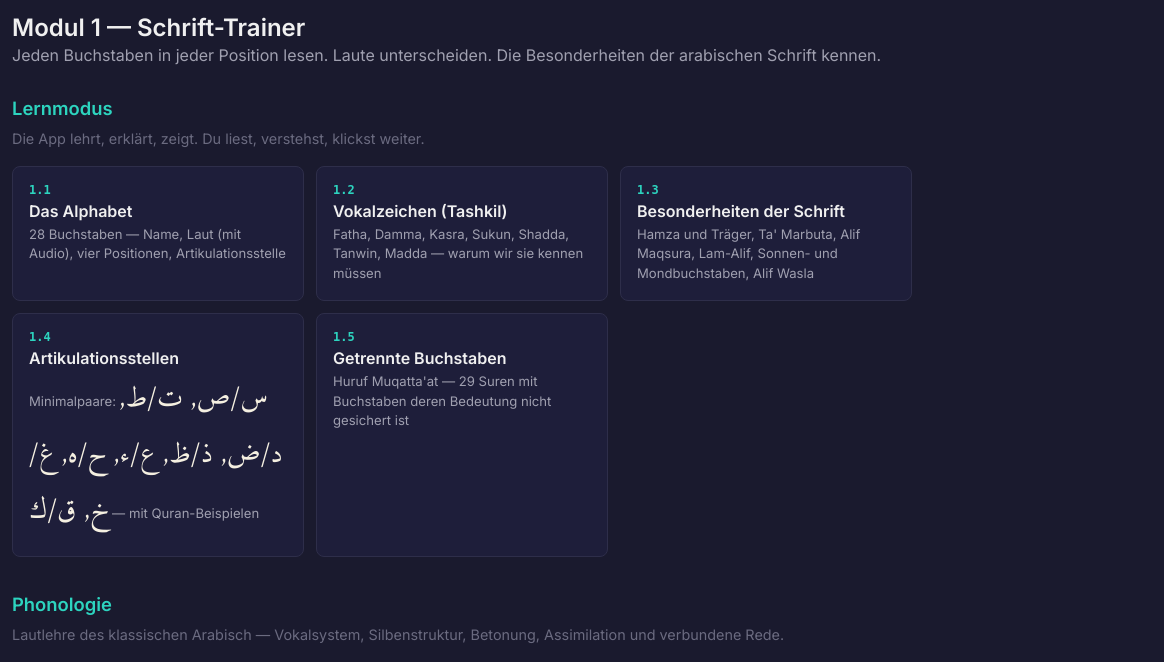
Test: Module1 Overview and Section Navigation › clicking lesson 1.2 card navigates to Tashkil lesson
Step 1. Click the text "Vokalzeichen (Tashkil)" → (420, 211), box [333,201,508,221]
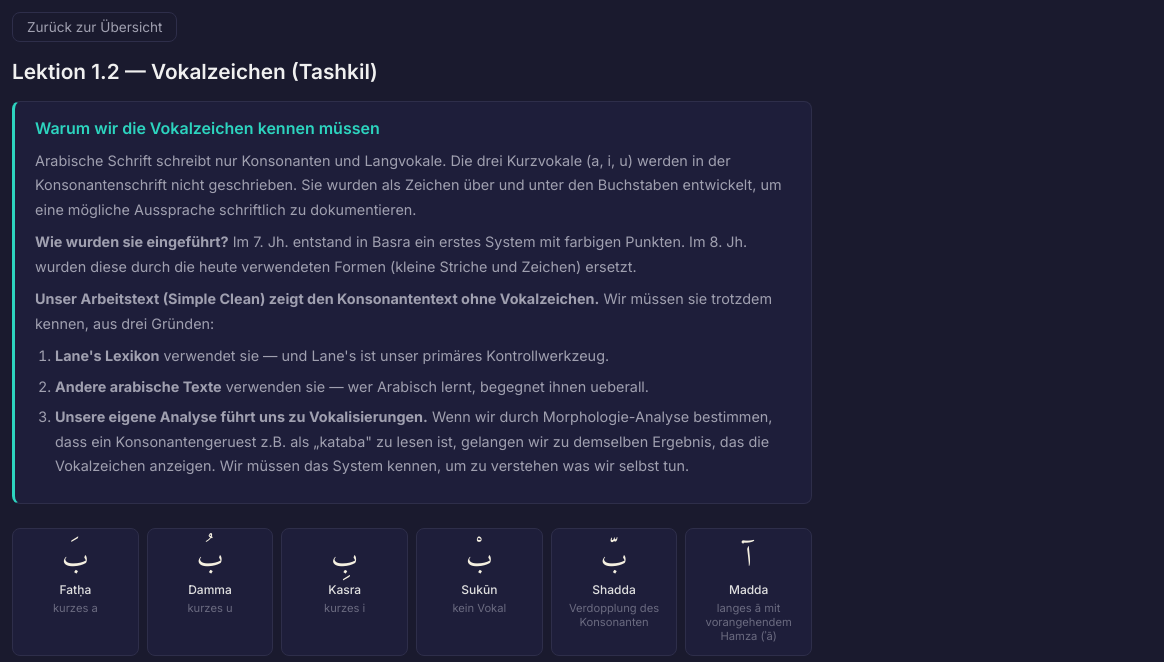
Expected: the heading "Lektion 1.2 — Vokalzeichen (Tashkil)" is shown, [12,59,378,84]
